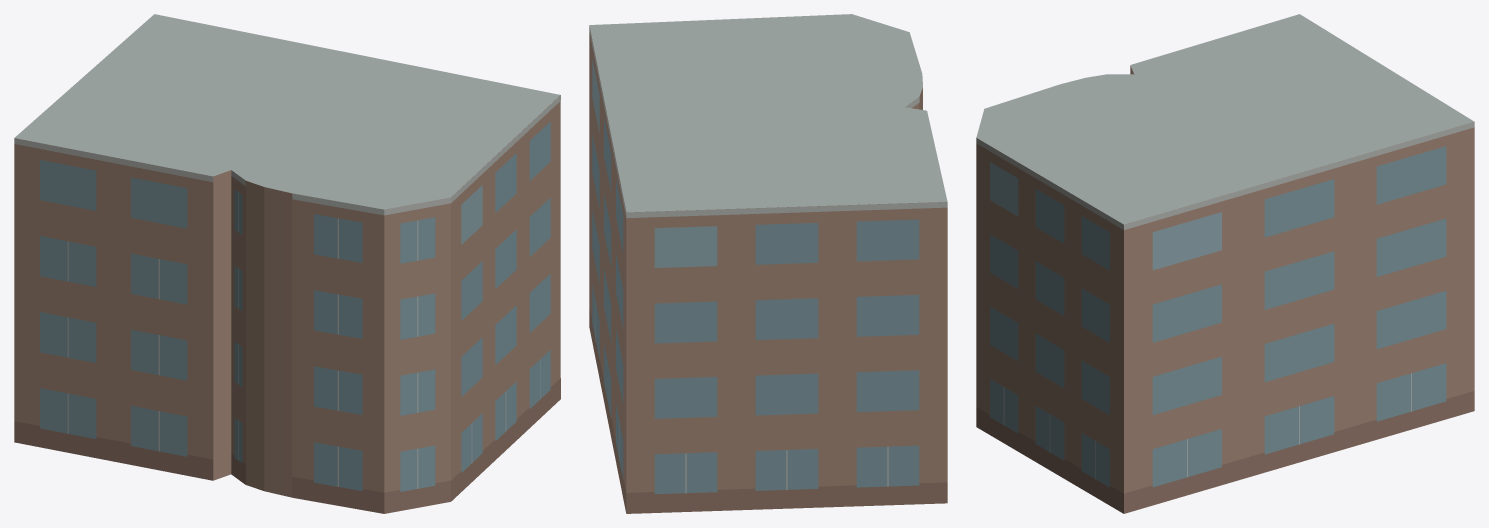
Rendered from survey-upis-32802762.glb.
The picture shows the model from 3 angles, left to right: view 1: azimuth 30°, elevation 25°; view 2: azimuth 150°, elevation 25°; view 3: azimuth 270°, elevation 25°; orthographic projection. The views are drawn at different scales.
Visible parts, largest first — view 1: survey-upis-32802762.tmp; view 2: survey-upis-32802762.tmp; view 3: survey-upis-32802762.tmp.
Part boxes in pixels (x1,y1,x2,y2): survey-upis-32802762.tmp: [14, 14, 560, 513]; survey-upis-32802762.tmp: [589, 14, 947, 513]; survey-upis-32802762.tmp: [976, 14, 1474, 513].
Bounding box in the file's own units: 19.84 × 12.7 × 19.84.
